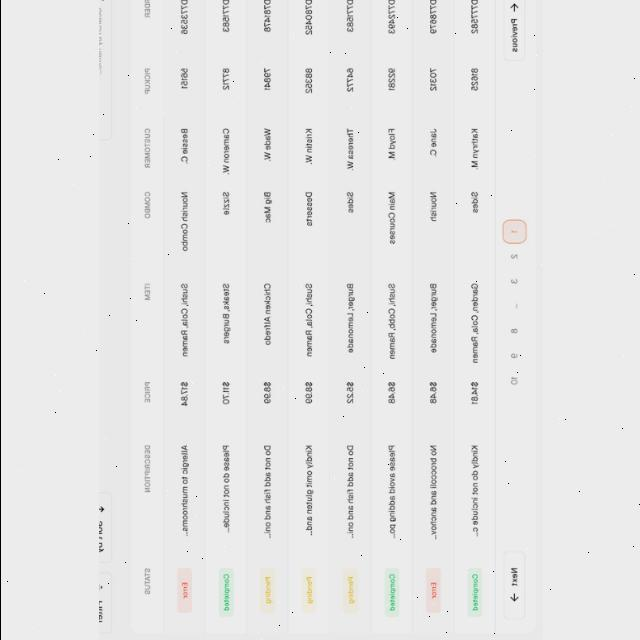QLabel: (510, 18, 518, 52), (510, 568, 518, 586), (98, 520, 102, 552), (98, 600, 102, 622)
VBtn: (502, 551, 526, 619), (503, 1, 525, 62), (98, 492, 112, 564), (98, 571, 112, 633)
VDataTable: (128, 0, 496, 638)
VIcon: (509, 3, 518, 11), (509, 593, 518, 601), (98, 502, 104, 512), (98, 581, 102, 593)
VPagination: (501, 218, 527, 388)
VTextField: (98, 0, 112, 140)
